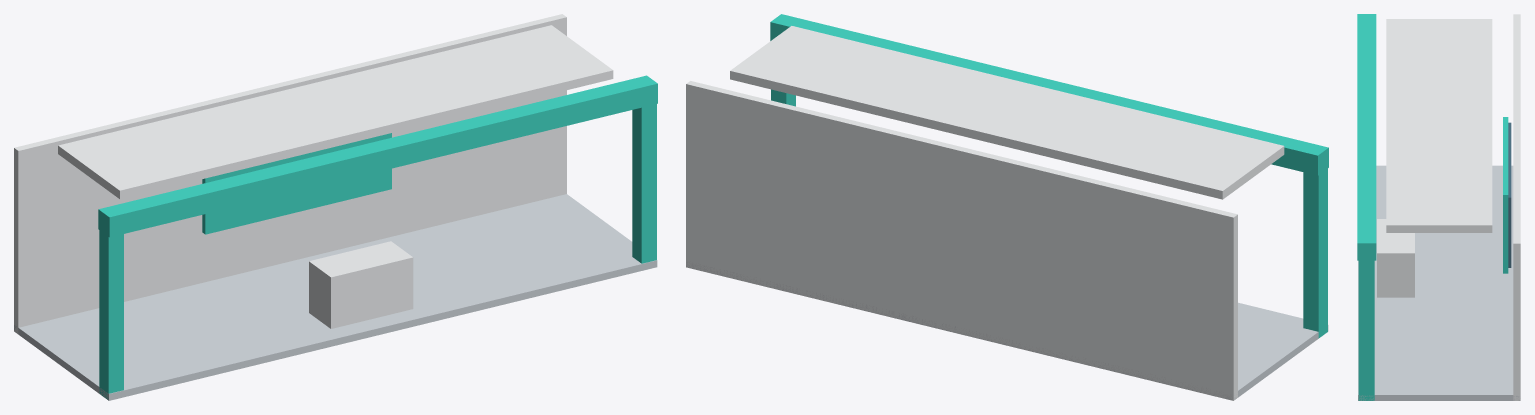
3 views of the same model, side by side, from view 1: azimuth 30°, elevation 25°; view 2: azimuth 150°, elevation 25°; view 3: azimuth 270°, elevation 25° (orthographic). The views are drawn at different scales.
Visible parts, largest first — view 1: Exhibition Booth Concept; view 2: Exhibition Booth Concept; view 3: Exhibition Booth Concept.
Boxes of the visible parts, bbox=[...] form: Exhibition Booth Concept: bbox=[14, 14, 657, 400]; Exhibition Booth Concept: bbox=[686, 14, 1328, 400]; Exhibition Booth Concept: bbox=[1357, 14, 1520, 400].
Size of the model in its own units: 10 by 3.34 by 3.01.
